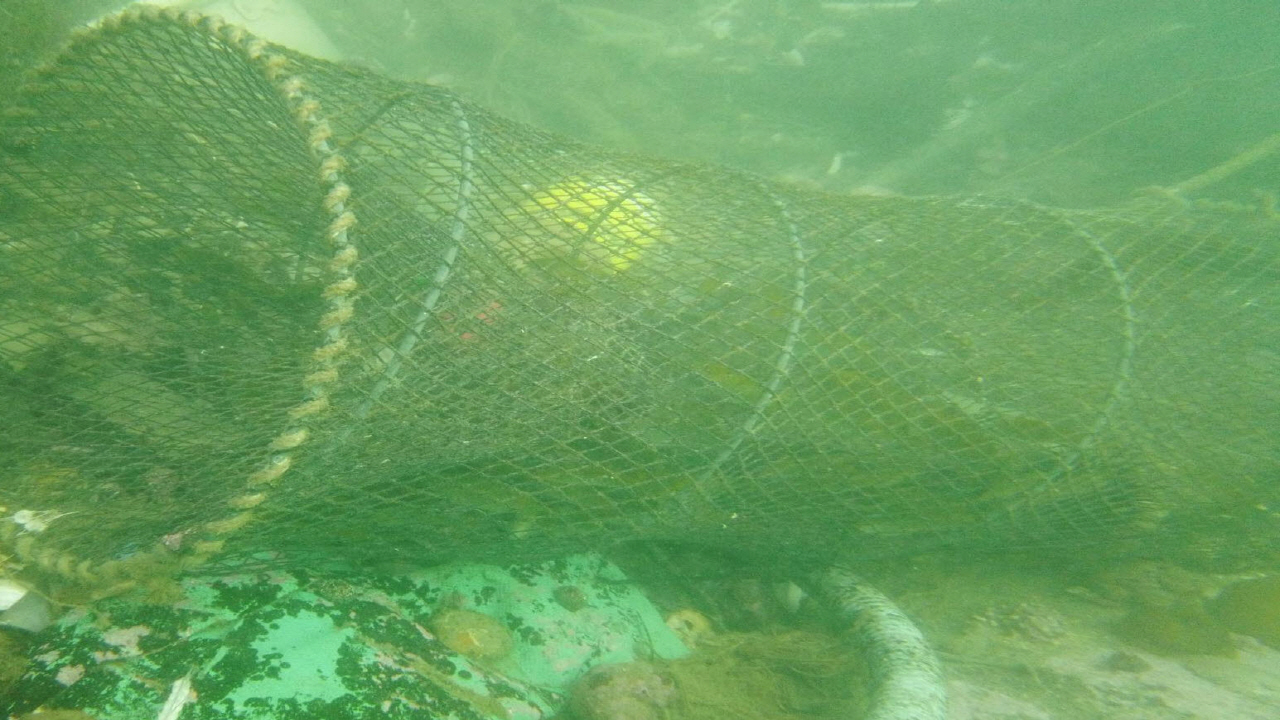spring fish trap: (1, 6, 1280, 584)
